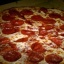pepperoni: (19, 44, 48, 64), (28, 10, 56, 30), (1, 35, 20, 62), (3, 9, 24, 33), (44, 53, 64, 64)
pizza: (1, 1, 64, 64)
